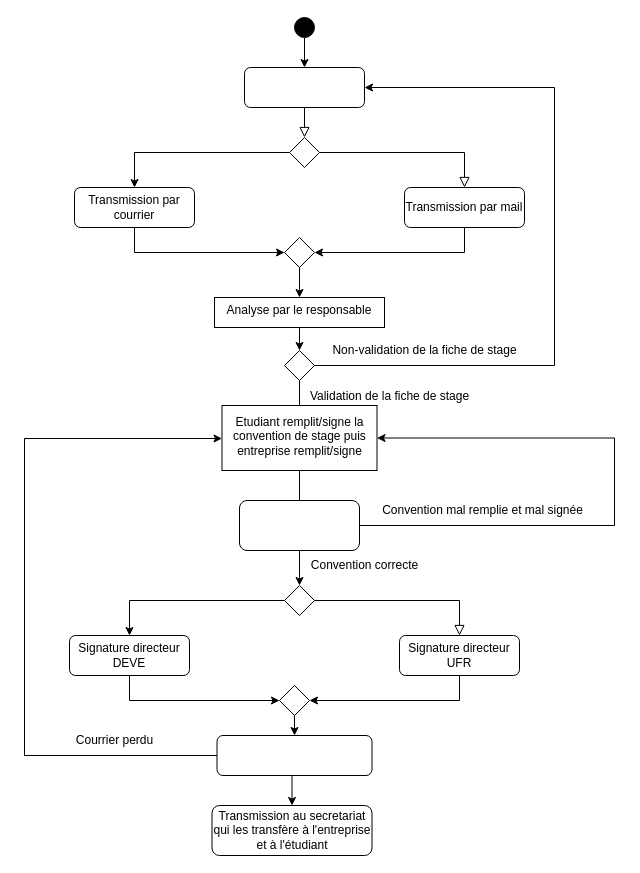
Some shapes in this 640 by 873 pixel diagram are drawn without their labels. The centre of each missing label's shape, as x and y in pixels:
"Remplir fiche de stage" belongs at point (304, 87).
"Retour au directeur de stage (garde un exemplaire)" belongs at point (294, 755).
"Transimission/ verification par le directeur de stage" belongs at point (299, 525).
